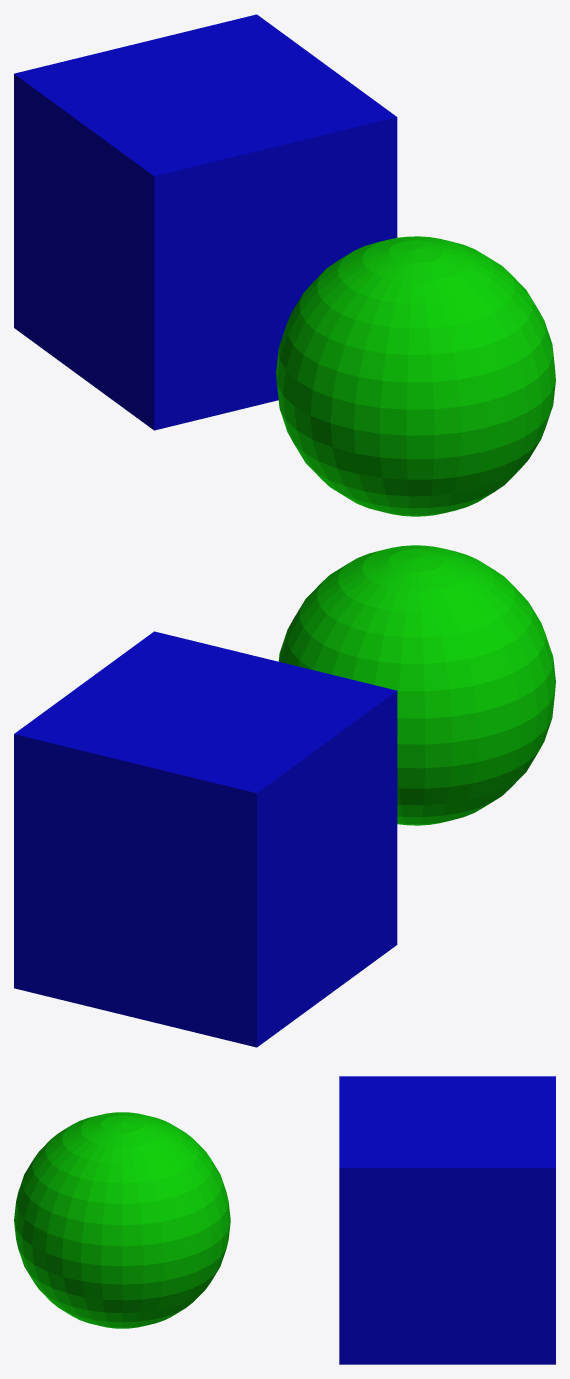
3 renders of one model, top to bottom at view 1: azimuth 30°, elevation 25°; view 2: azimuth 150°, elevation 25°; view 3: azimuth 270°, elevation 25°, orthographic. The views are drawn at different scales.
Parts seen in each view (by area): view 1: Куб, Сфера; view 2: Куб, Сфера; view 3: Куб, Сфера.
Boxes of the visible parts, x1,y1,x2,y2 form: Куб: [14, 14, 397, 430]; Сфера: [276, 236, 555, 516]; Куб: [14, 631, 397, 1047]; Сфера: [278, 545, 555, 825]; Куб: [339, 1076, 555, 1364]; Сфера: [14, 1112, 230, 1328].
Bounding box in the file's own units: 2 × 2 × 5.
